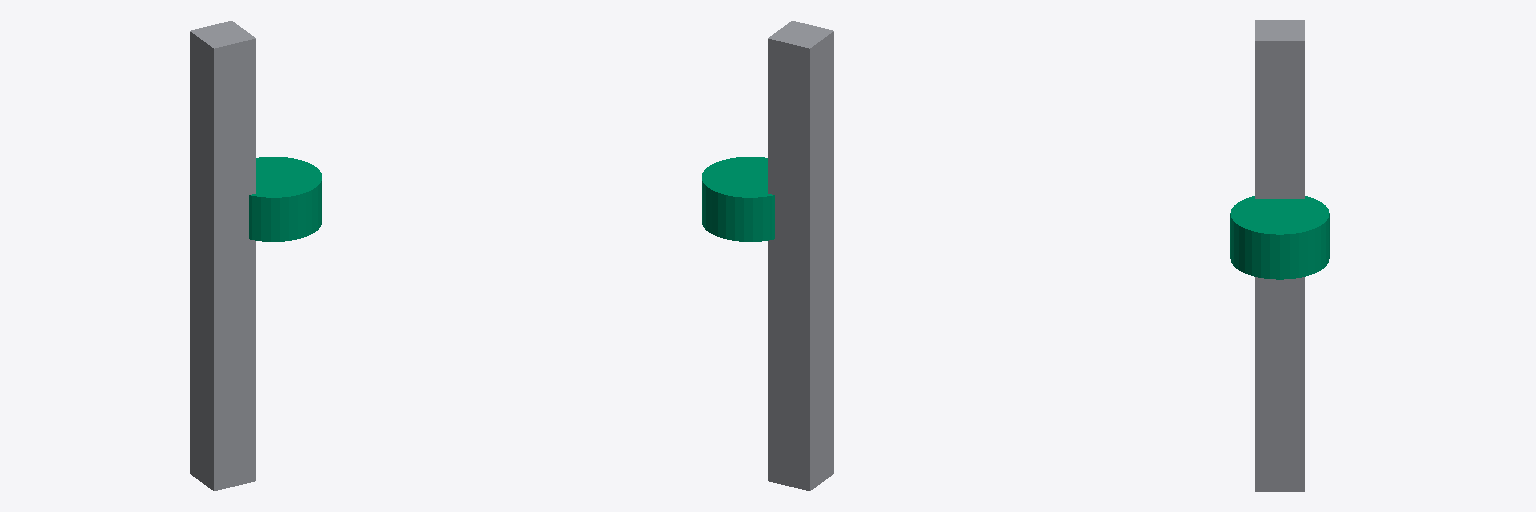
URDF robot description (awesome_leg_complete):
<?xml version="1.0" encoding="utf-8" ?>

<robot name="awesome_leg_complete" xmlns:xacro="http://www.ros.org/wiki/xacro">

    <!-- ################### MATERIAL DEFINITIONS ################### -->
Ì
    <material name="black">
        <color rgba="0.4 0.4 0.4 1"/>
    </material>
    <material name="dark">
        <color rgba="0.1 0.1 0.1 1"/>
    </material>
     <material name="dark_grey">
        <color rgba="0.6627 0.6627 0.6627 1"/>
    </material>
    <material name="test_rig_material">
        <color rgba="0.647 0.655 0.678 1.0" />
    </material>

    <!-- ################### LINKS ################### -->
    <link name="world"/>

   <link name="test_rig"> <!-- test rig link; defined here to be able to cope with passive joints -->
      <visual>
          <origin rpy="0 0 0" xyz="-0.12 0 0" />
          <geometry>
              <box size="0.1 0.1 1" />
          </geometry>
          <material name="test_rig_material" />
      </visual>
      <collision>
          <origin rpy="0 0 0" xyz="-0.12 0 0" />
          <geometry>
              <box size="0.1 0.1 1" />
          </geometry>
      </collision>
      
      <inertial>
          <mass value="0.1" />
          <inertia ixx="0.03" iyy="0.03" izz="0.03" ixy="0.0" ixz="0.0" iyz="0.0" />
      </inertial>

    </link>  

    <link name="pelvis">
        <inertial>
        <mass value="10.0"/> <!-- considering also the mass contribution of the robot torso -->
        <inertia ixx="0.00208333333333" ixy="0.0" ixz="0.0" iyy="0.00208333333333" iyz="0.0" izz="0.0025"/>
        </inertial>
        <visual>
        <geometry>
            <cylinder length="0.1" radius="0.1"/>
        </geometry>
        </visual>
        <visual>
        <geometry>
            <cylinder length="0.1" radius="0.1"/>
        </geometry>
        </visual>
    </link>

    <link name="hip1_1">
        <inertial>
        <origin xyz="0.010214199 0.0 0.038090987"/>
        <mass value="1.9194403"/>
        <!-- org: 2 -->
        <inertia ixx="0.0047439572" ixy="-0.0" ixz="-0.0003784138" iyy="0.0040551878" iyz="-0.0" izz="0.0034146219"/>
        <!-- <inertia ixx="0.01" ixy="0.01" ixz="0.01" iyy="0.01" iyz="0.01" izz="0.01"/> -->
        </inertial>
        <visual>
        <origin rpy="0.0 0.0 2.03221245002" xyz="0.0 0.0 0.0"/>
        <geometry>
            <mesh filename="package://awesome_leg_pholus/description/meshes/visual/hip-yaw.stl" scale="0.001 0.001 0.001"/>
        </geometry>
        <material name="dark_grey"/>
        </visual>
        <collision>
        <origin rpy="0.0 0.0 2.03221245002" xyz="0.0 0.0 0.0"/>
        <geometry>
            <mesh filename="package://awesome_leg_pholus/description/meshes/collision/hip-yaw.stl" scale="0.001 0.001 0.001"/>
        </geometry>
        </collision>
    </link>

    <link name="hip2_1">
        <inertial>
        <origin xyz="2.57966e-05 0.1810266 0.085669756"/>
        <mass value="2.7264471"/>
        <!-- org: 4.5 -->
        <inertia ixx="0.04851869" ixy="-4.11894e-05" ixz="-1.68778e-05" iyy="0.004242055" iyz="0.0032243188" izz="0.04825583"/>
        <!-- <inertia ixx="0.01" ixy="0.01" ixz="0.01" iyy="0.01" iyz="0.01" izz="0.01"/> -->
        </inertial>
        <visual>
        <origin rpy="0.0 0.0 0.0" xyz="0.0 0.0 0.0"/>
        <geometry>
            <mesh filename="package://awesome_leg_pholus/description/meshes/visual/hip-pitch.stl" scale="0.001 0.001 0.001"/>
        </geometry>
        </visual>
        <collision>
        <origin rpy="0.0 0.0 0.0" xyz="0.0 0.0 0.0"/>
        <geometry>
            <mesh filename="package://awesome_leg_pholus/description/meshes/collision/hip-pitch.stl" scale="0.001 0.001 0.001"/>
        </geometry>
        </collision>
    </link>

    <link name="knee_1">
        <inertial>
        <mass value="1.1927236"/>
        <origin rpy="0.0 0.0 0.0" xyz="0.19572282 -0.014549221 -0.020785942"/>
        <!--origin xyz="${1.4549221e+01*mmTom} ${-2.0785942e+01*mmTom} ${-1.9572282e+02*mmTom}" rpy="0.0 0.0 0.0"/-->
        <!--inertia ixx="${3.5313402e+04*mm2Tom2}"  ixy="${0.0*mm2Tom2}"  ixz="${1.1029574e-01*mm2Tom2}" iyy="${3.5530025e+04*mm2Tom2}" iyz="${-6.0307457e+02*mm2Tom2}" izz="${1.3302597e+03*mm2Tom2}" /-->
        <inertia ixx="0.0013302597" ixy="0.00060307457" ixz="0.0" iyy="0.035313402" iyz="-1.1029574e-07" izz="0.035530025"/>
        </inertial>
        <visual>
        <origin rpy="1.57079632679 0 -1.57079632679" xyz="0 0 0"/>
        <material name="black"/>
        <geometry name="1_stick_visual">
            <mesh filename="package://awesome_leg_pholus/description/meshes/visual/front_right_stick.stl" scale="0.001 0.001 0.001"/>
        </geometry>
        </visual>
        <collision>
        <origin rpy="1.57079632679 0 -1.57079632679" xyz="0 0 0"/>
        <geometry name="1_stick_collision">
            <mesh filename="package://awesome_leg_pholus/description/meshes/collision/front_right_stick.stl" scale="0.001 0.001 0.001"/>
        </geometry>
        </collision>
    </link>
    
    <link name="tip"/> <!-- just for reference-->

    <!-- ################### JOINTS ################### -->
    
    <joint name="world_to_test_rig" type="prismatic">
    <parent link="world"/>
    <child link="test_rig"/>
    <axis xyz="0 1 0" />
    </joint>

    <joint name="passive_joint" type="prismatic">
      <parent link="test_rig" />
      <child link="pelvis" />
      <origin xyz="0 0 0.1" />
      <axis xyz="0 0 1" />
      <dynamics damping="0.0" friction="0.0" />
      <limit lower="-0.8" upper="10.0" effort="80" velocity="15.0" />
  </joint>

    <joint name="hip_yaw_1" type="fixed">
        <parent link="pelvis"/>
        <child link="hip1_1"/>
        <origin rpy="3.14159265359 0.0 0.0" xyz="0.0 -0.0 -0.0566"/>
    </joint>

    <joint name="hip_pitch_1" type="revolute">
        <parent link="hip1_1"/>
        <child link="hip2_1"/>
        <origin rpy="1.57079632679 0.0 1.5707963268" xyz="0.0 0.0 0.0625"/>
        <axis xyz="0 0 1"/>
        <limit effort="112" lower="-2.0226" upper="2.02748" velocity="20.0"/>
    </joint>

    <joint name="knee_pitch_1" type="revolute">
        <parent link="hip2_1"/>
        <child link="knee_1"/>
        <origin rpy="3.14159265359 0.0 1.57079632679" xyz="0.0 0.3 -0.0036"/>
        <axis xyz="0 0 1"/>
        <limit effort="112" lower="-2.4056" upper="2.3994" velocity="20.0"/>
        <!-- 200 Nm, 1 rad/s-->
    </joint>

    <joint name="tip_joint" type="fixed">
        <parent link="knee_1"/>
        <child link="tip"/>
        <origin xyz="0.45 0.0 -0.02"/>
    </joint>

</robot>

--- What the picture shows (computed from the rendered views, not written in the file) ---
Views: 3 orthographic renders of the robot side by side, from view 1: azimuth 30°, elevation 25°; view 2: azimuth 150°, elevation 25°; view 3: azimuth 270°, elevation 25°.
Model awesome_leg_complete with 7 links and 6 joints (2 revolute, 2 prismatic, 2 fixed), rooted at world, posed all joints at 0.
Visible links, largest first — view 1: test_rig, pelvis; view 2: test_rig, pelvis; view 3: test_rig, pelvis.
Link boxes in pixels (x1,y1,x2,y2): test_rig: [190, 21, 255, 490]; pelvis: [249, 157, 321, 241]; test_rig: [768, 21, 833, 490]; pelvis: [702, 157, 774, 241]; test_rig: [1255, 20, 1304, 491]; pelvis: [1230, 196, 1329, 279].
Bounding box of the posed robot: 0.27 × 0.2 × 1 m (x, y, z).
Meshes: 3 distinct files referenced, 0 mesh visuals loaded (none loaded); not drawn: 3 (reference not matched to a file when rendering).
